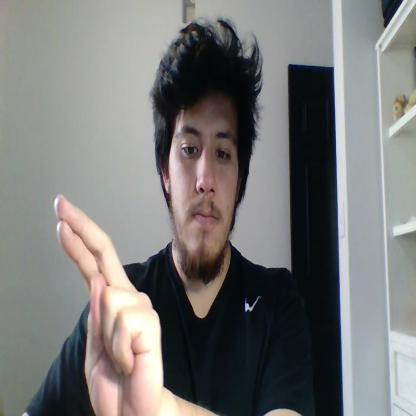R: (54, 193, 164, 415)
